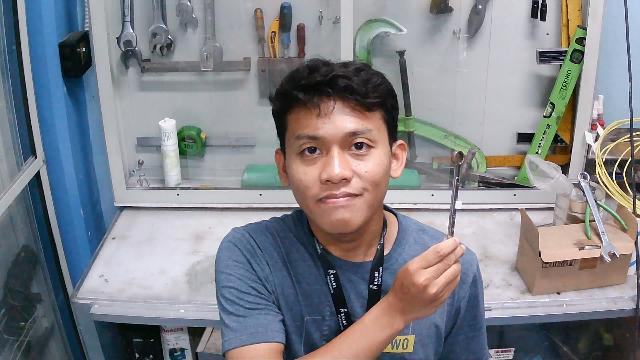kunci_pass_13: (433, 141, 475, 267)
